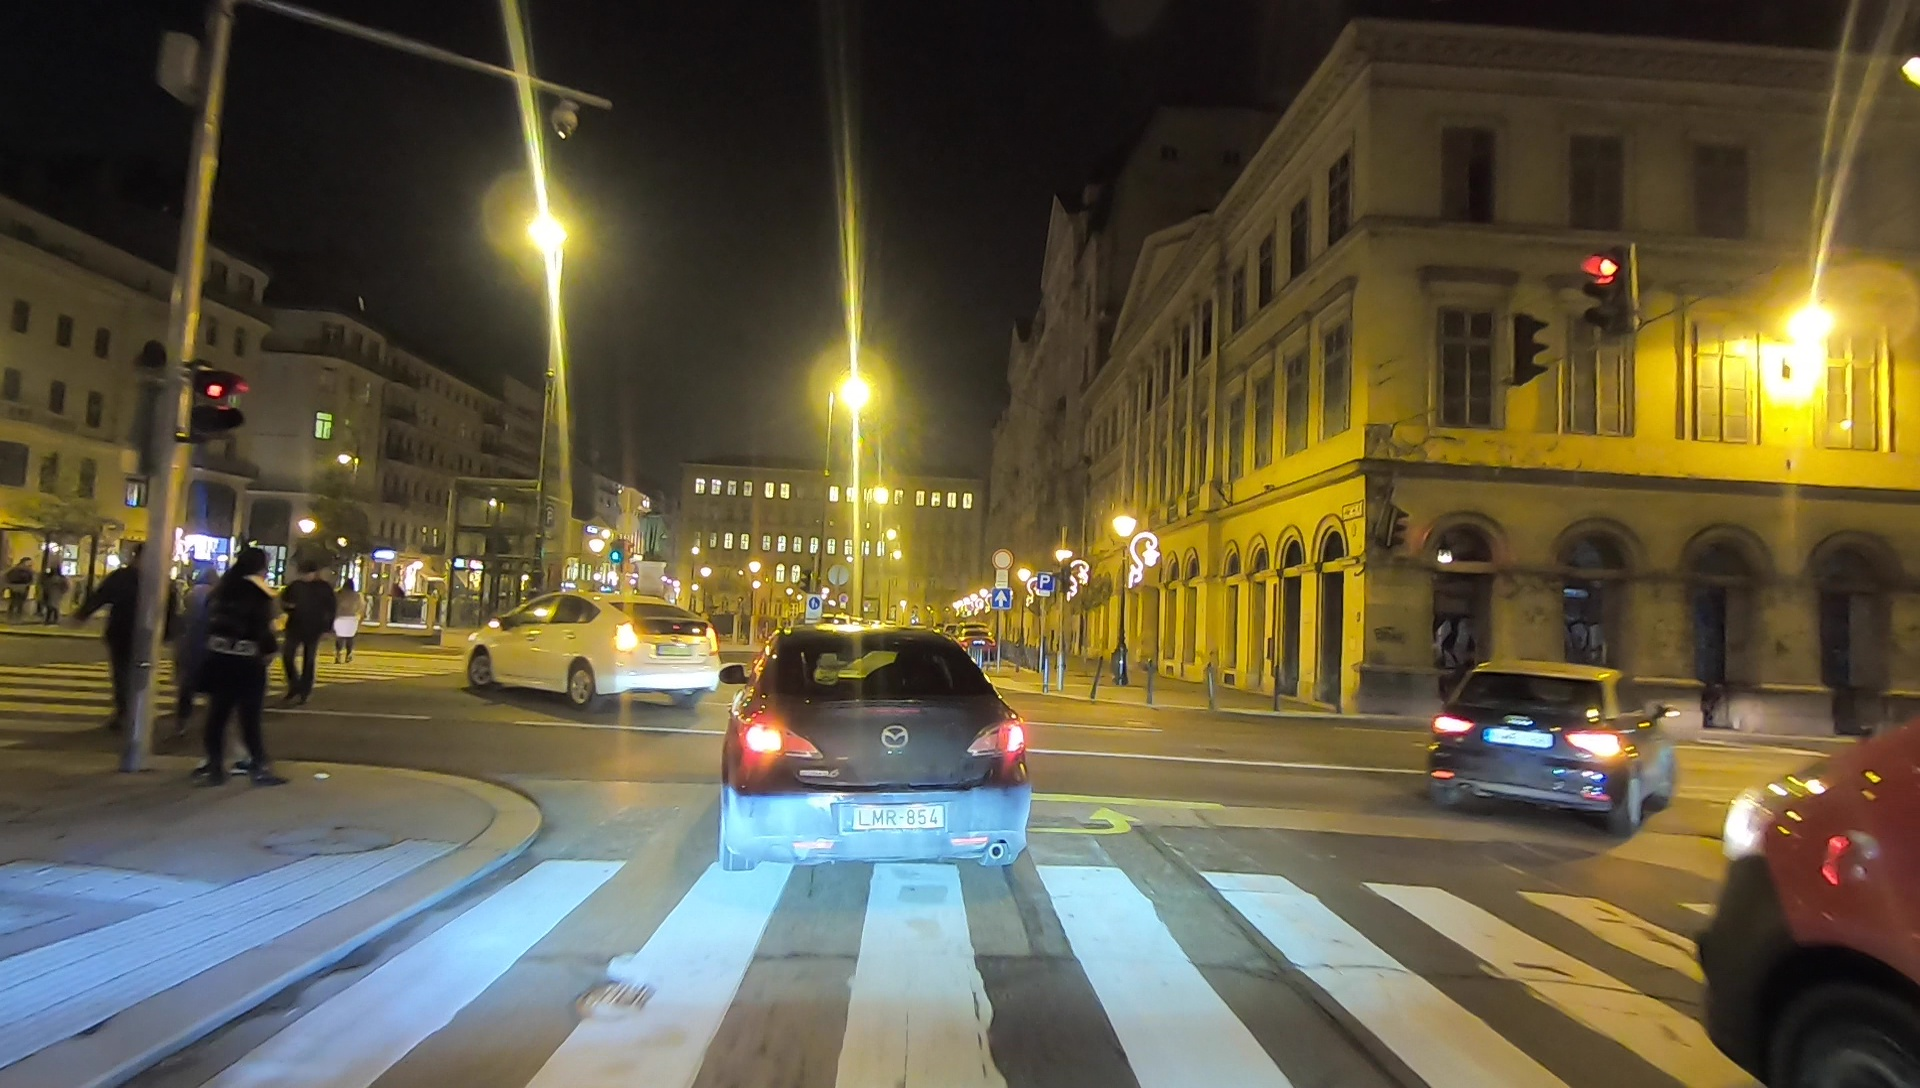person: (71, 539, 167, 745), (201, 556, 282, 793), (276, 560, 323, 706), (328, 567, 365, 663)
